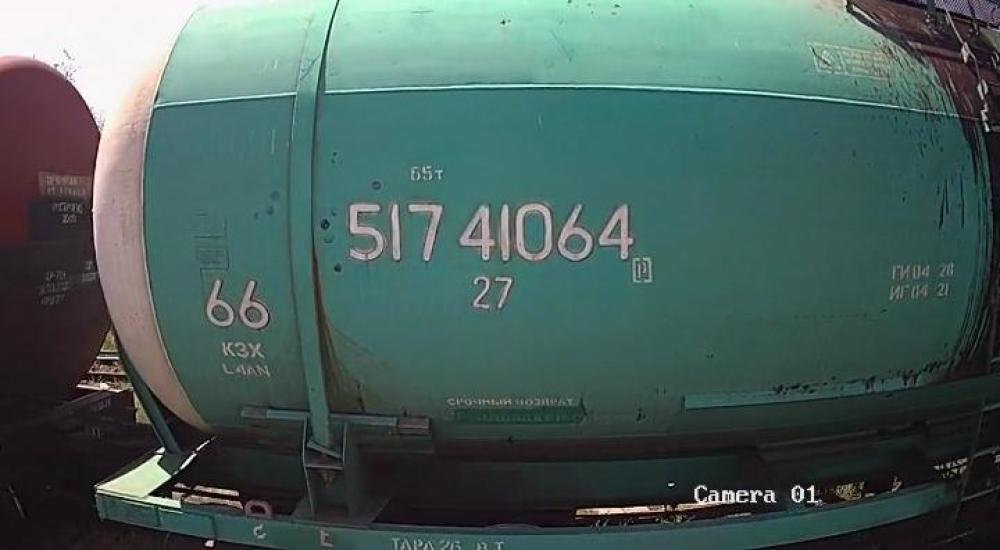Wagon-number: (341, 198, 640, 268)
